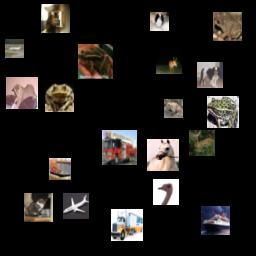airplane: (63, 193, 89, 219), (5, 39, 24, 58)
bird: (153, 179, 179, 205)
cat: (6, 77, 38, 109), (41, 4, 70, 33), (24, 193, 53, 222)
deer: (156, 48, 182, 74), (189, 130, 215, 156)
dog: (197, 62, 223, 88), (150, 12, 169, 31)
frog: (78, 44, 113, 79), (207, 96, 239, 128), (45, 83, 74, 112), (213, 12, 242, 41), (164, 99, 183, 118)
ship: (201, 206, 230, 235), (49, 158, 71, 180)
truck: (102, 130, 137, 165), (111, 209, 143, 241)
